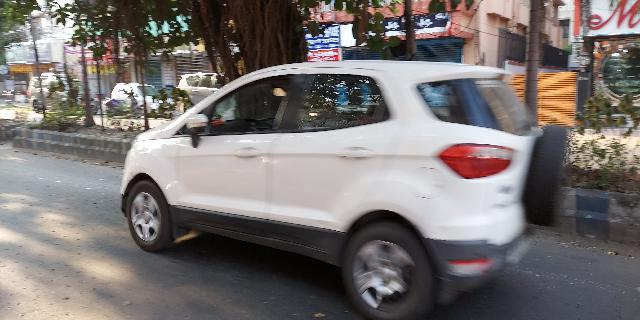Car: (114, 50, 569, 311)
